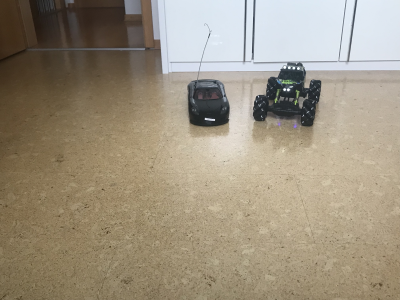remote control car: (252, 58, 324, 128)
